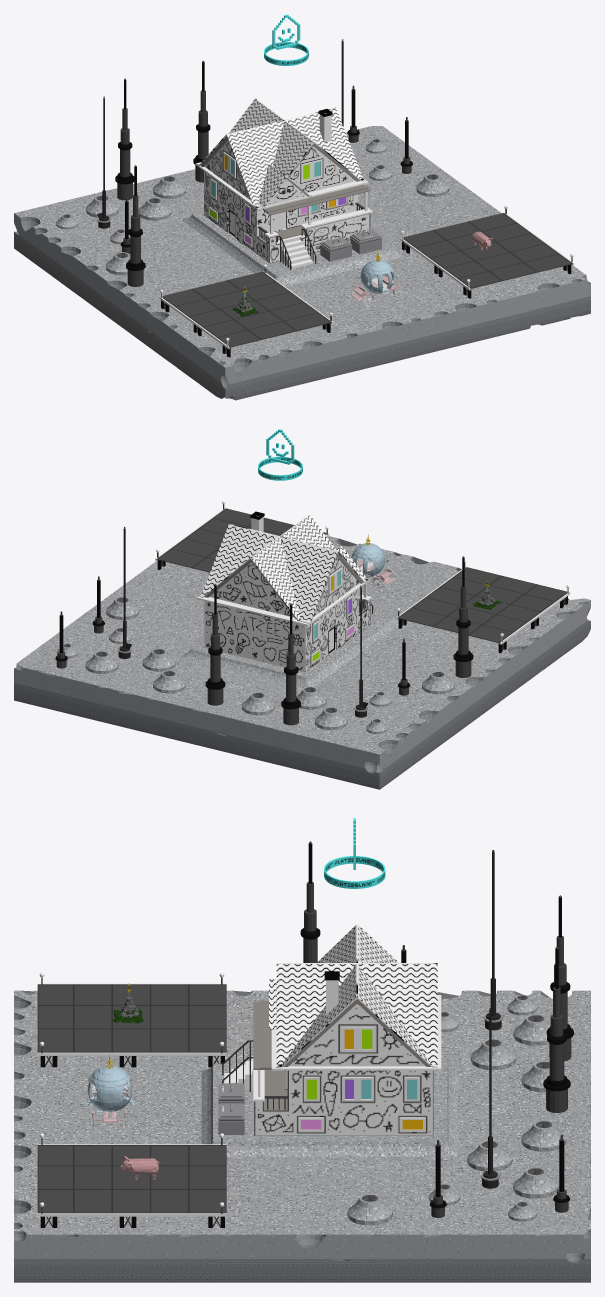
3 views of the same model, one above another, from view 1: azimuth 30°, elevation 25°; view 2: azimuth 150°, elevation 25°; view 3: azimuth 270°, elevation 25° (orthographic). The views are drawn at different scales.
Visible parts, largest first — view 1: Cube.027, Cube.879, Cube.026, Cube.025, Cube.028, VEHICLES_FANTASY_CARRIAGE, Cylinder.021, Cylinder.020, Cylinder.017, TYPE_PREMIUM, Cube.029, Cube.030 (+3 smaller); view 2: Cube.027, Cube.879, Cube.025, Cube.028, Cube.026, Cylinder.017, VEHICLES_FANTASY_CARRIAGE, Cylinder.021, Cylinder.020, TYPE_PREMIUM, Cylinder.030, Cylinder.029 (+7 smaller); view 3: Cube.027, Cube.879, Cube.025, Cube.026, Cube.028, Cylinder.017, VEHICLES_FANTASY_CARRIAGE, Cylinder.020, Cylinder.021, TYPE_PREMIUM, Cylinder.033, Cylinder.031 (+10 smaller).
Boxes of the visible parts, x1,y1,x2,y2 form: Cube.027: (14,126,590,400); Cube.879: (195,98,372,269); Cube.026: (400,205,574,298); Cube.025: (159,264,333,357); Cube.028: (182,211,403,286); VEHICLES_FANTASY_CARRIAGE: (350,251,403,304); Cylinder.021: (126,165,145,286); Cylinder.020: (115,78,134,200); Cylinder.017: (193,60,210,182); TYPE_PREMIUM: (264,14,308,65); Cube.029: (320,237,351,261); Cube.030: (350,230,381,254); Cube.027: (14,536,590,789); Cube.879: (197,511,373,672); Cube.025: (396,560,570,653); Cube.028: (181,610,398,688); Cube.026: (155,501,329,572); Cylinder.017: (205,583,225,705); VEHICLES_FANTASY_CARRIAGE: (351,534,395,588); Cylinder.021: (453,556,473,677); Cylinder.020: (281,603,300,725); TYPE_PREMIUM: (258,429,302,480); Cylinder.030: (142,648,175,671); Cylinder.029: (153,670,185,693); Cube.027: (14,990,590,1282); Cube.879: (222,924,441,1135); Cube.025: (37,973,226,1067); Cube.026: (37,1133,226,1227); Cube.028: (201,1063,457,1156); Cylinder.017: (543,946,570,1112); VEHICLES_FANTASY_CARRIAGE: (85,1055,134,1126); Cylinder.020: (546,895,573,1061); Cylinder.021: (300,841,320,962); TYPE_PREMIUM: (324,818,385,888); Cylinder.033: (347,1194,392,1225); Cylinder.031: (513,1167,558,1198).
Bounding box in the file's own units: 4000 × 2804 × 4000.
41 materials, 12 textured.
